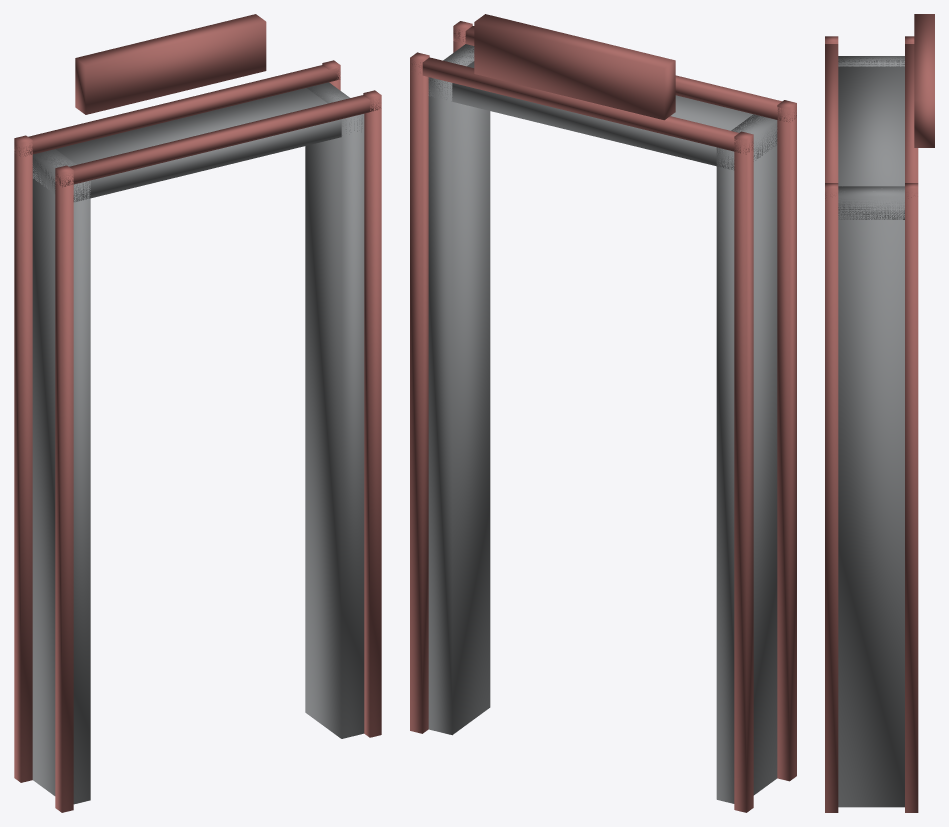
File: doorway_emergency_exit_w96_h220_d24.glb
The picture shows the model from 3 angles, left to right: view 1: azimuth 30°, elevation 25°; view 2: azimuth 150°, elevation 25°; view 3: azimuth 270°, elevation 25°; orthographic projection. The views are drawn at different scales.
Parts seen in each view (by area): view 1: world; view 2: world; view 3: world.
Boxes of the visible parts, left/top/right/bottom form: world: left=14, top=14, right=381, bottom=812; world: left=410, top=14, right=796, bottom=812; world: left=825, top=14, right=934, bottom=812.
Size of the model in its own units: 1.22 by 2.55 by 0.3733.
